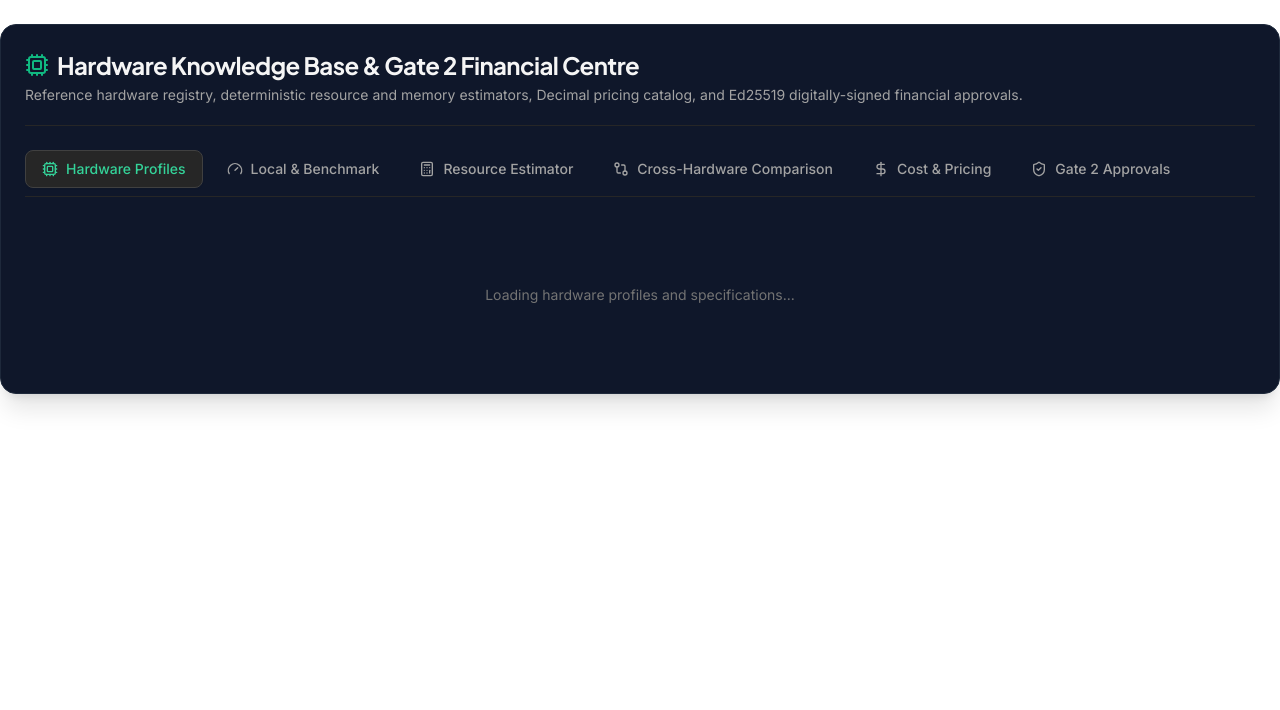
Test case: Hardware & Gate 2 Centre Frontend Page › switches to Local & Benchmark tab and displays host inspection info
The width and height of the screenshot is (1280, 710).
Click the button "Local & Benchmark" at (303, 169), box [211,150,396,188]
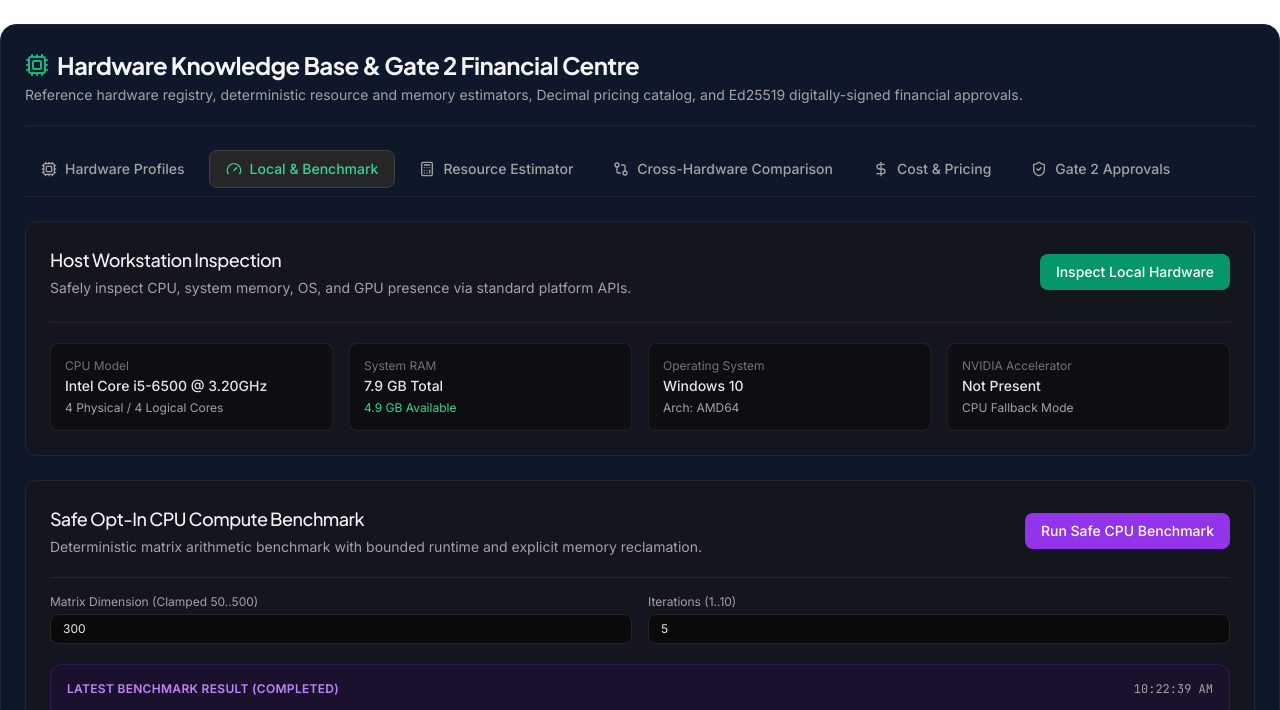
Result: the heading "Host Workstation Inspection" is shown at [50,248,281,271]
Result: the heading "Safe Opt-In CPU Compute Benchmark" is shown at [50,507,364,530]
Result: the text "Intel Core i5-6500 @ 3.20GHz" is shown at [65,377,267,394]
